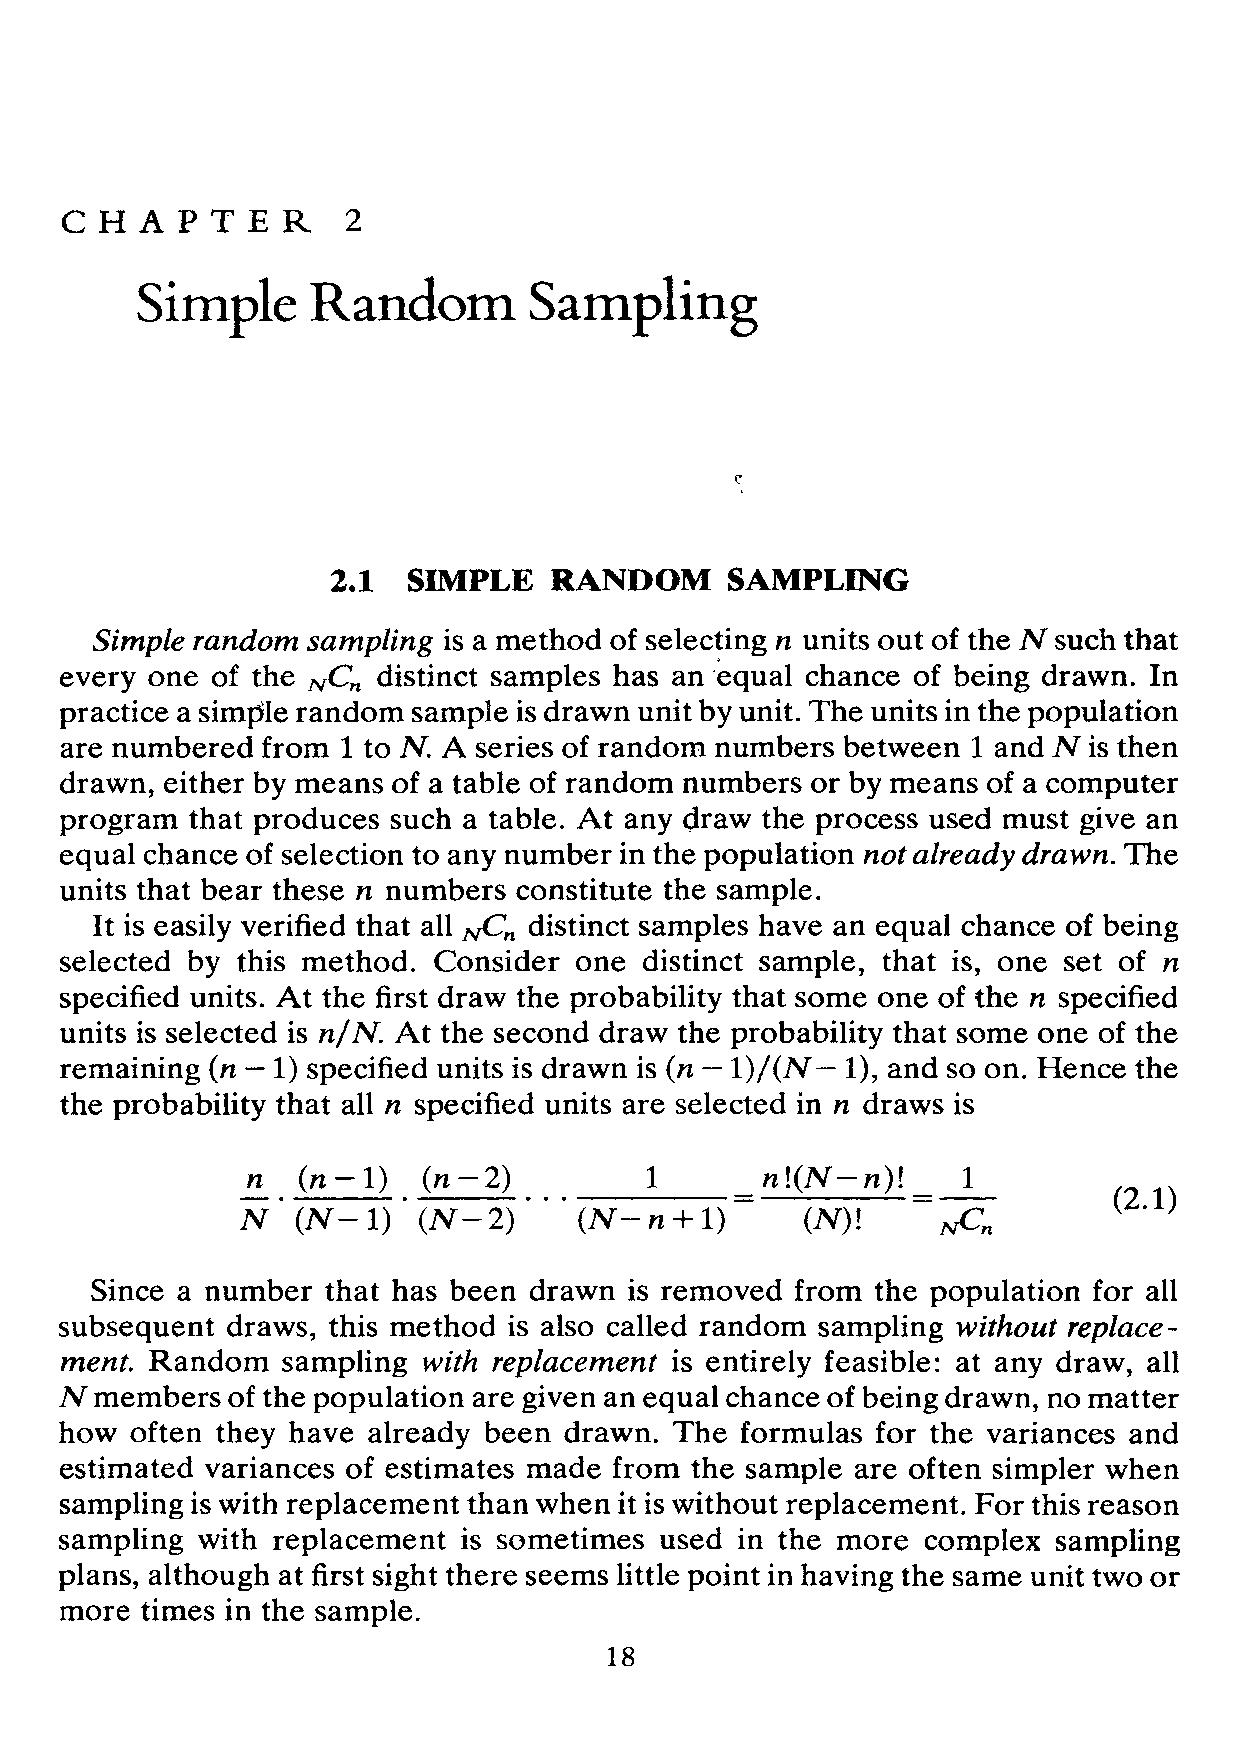chapter: (59, 205, 760, 342), (323, 560, 910, 596)
content: (56, 625, 1181, 1628)
content_pagenumber: (603, 1641, 636, 1671)
